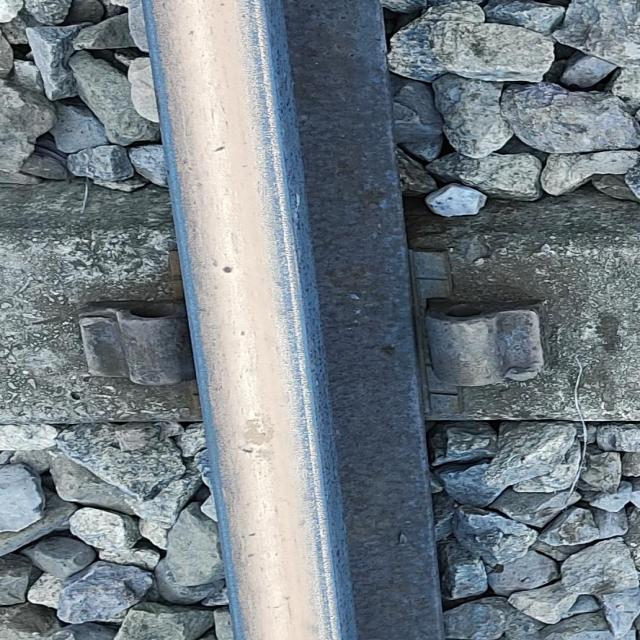Missing Fastener: (61, 300, 197, 421), (418, 300, 546, 418)
